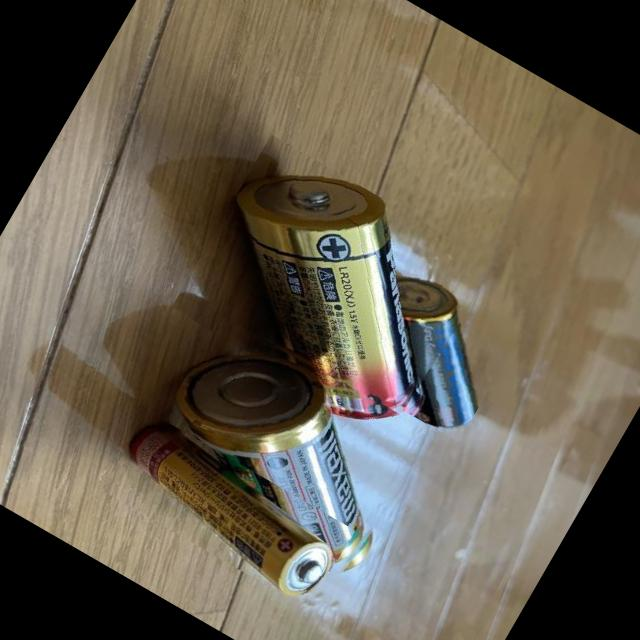Hazard: (165, 134, 495, 446), (120, 311, 438, 614), (100, 410, 354, 610), (337, 260, 522, 442)
